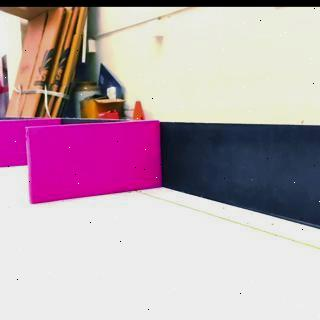xparking: (28, 126, 160, 197)
